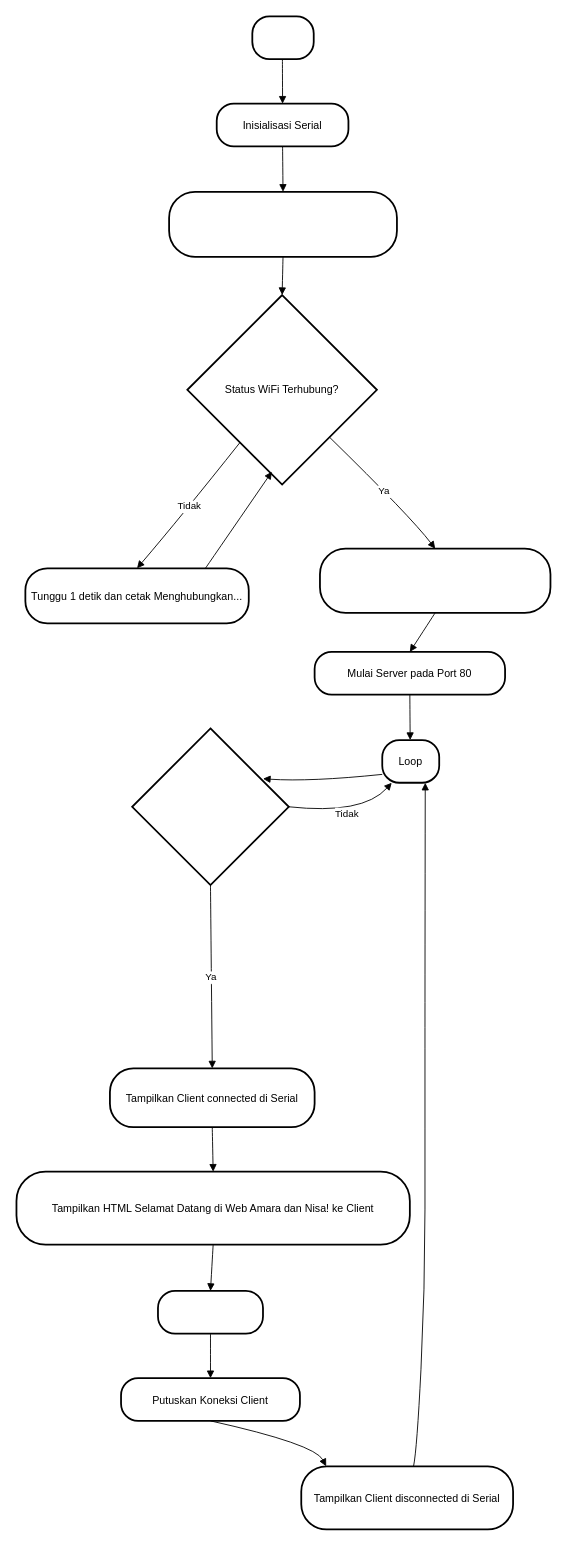
The diagram is 566 pixels wide and 1545 high, and some of its shapes have lost their labels. The shapes that lost their labels are listed below. From the top down, each one's centre as x and y in pixels, then its label:
At point (282, 37): "Mulai".
At point (282, 223): "Inisialisasi WiFi dengan SSID dan Password".
At point (435, 580): "Tampilkan Terhubung ke WiFi! dan Alamat IP".
At point (210, 806): "Client Terhubung?".
At point (210, 1312): "Tunggu 1 ms".
